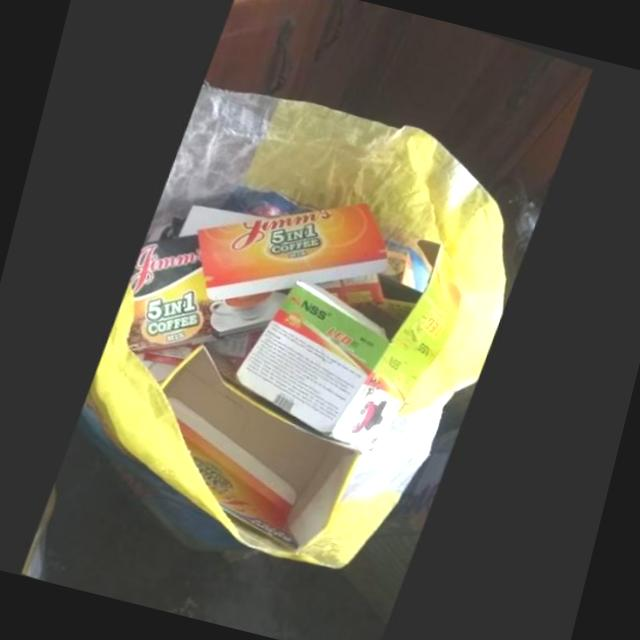carton: (238, 239, 467, 452), (182, 345, 364, 554), (200, 199, 394, 328), (130, 236, 221, 351)
